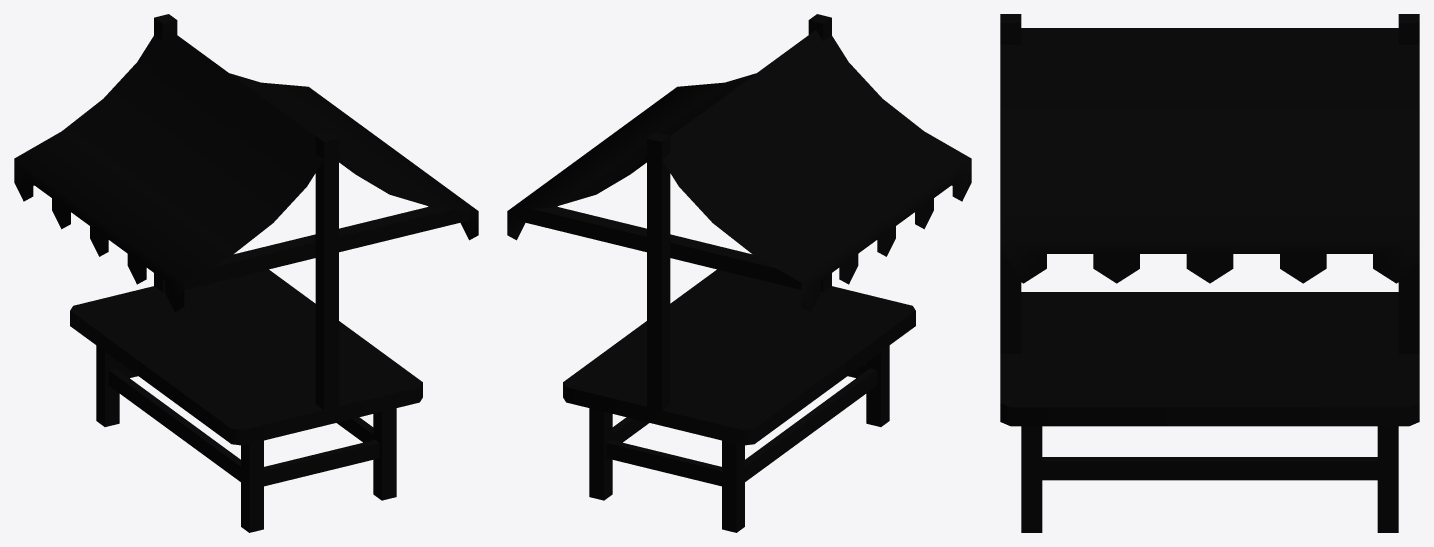
File: stall-red.glb
3 views of the same model, side by side, from view 1: azimuth 30°, elevation 25°; view 2: azimuth 150°, elevation 25°; view 3: azimuth 270°, elevation 25° (orthographic). The views are drawn at different scales.
Parts seen in each view (by area): view 1: stall-red; view 2: stall-red; view 3: stall-red.
Part boxes in pixels (bbox=[...]): stall-red: bbox=[14, 14, 478, 532]; stall-red: bbox=[507, 14, 971, 532]; stall-red: bbox=[1000, 14, 1419, 532].
Bounding box in the file's own units: 1 × 1.24 × 1.
Materials: 1 (1 with a texture image).
